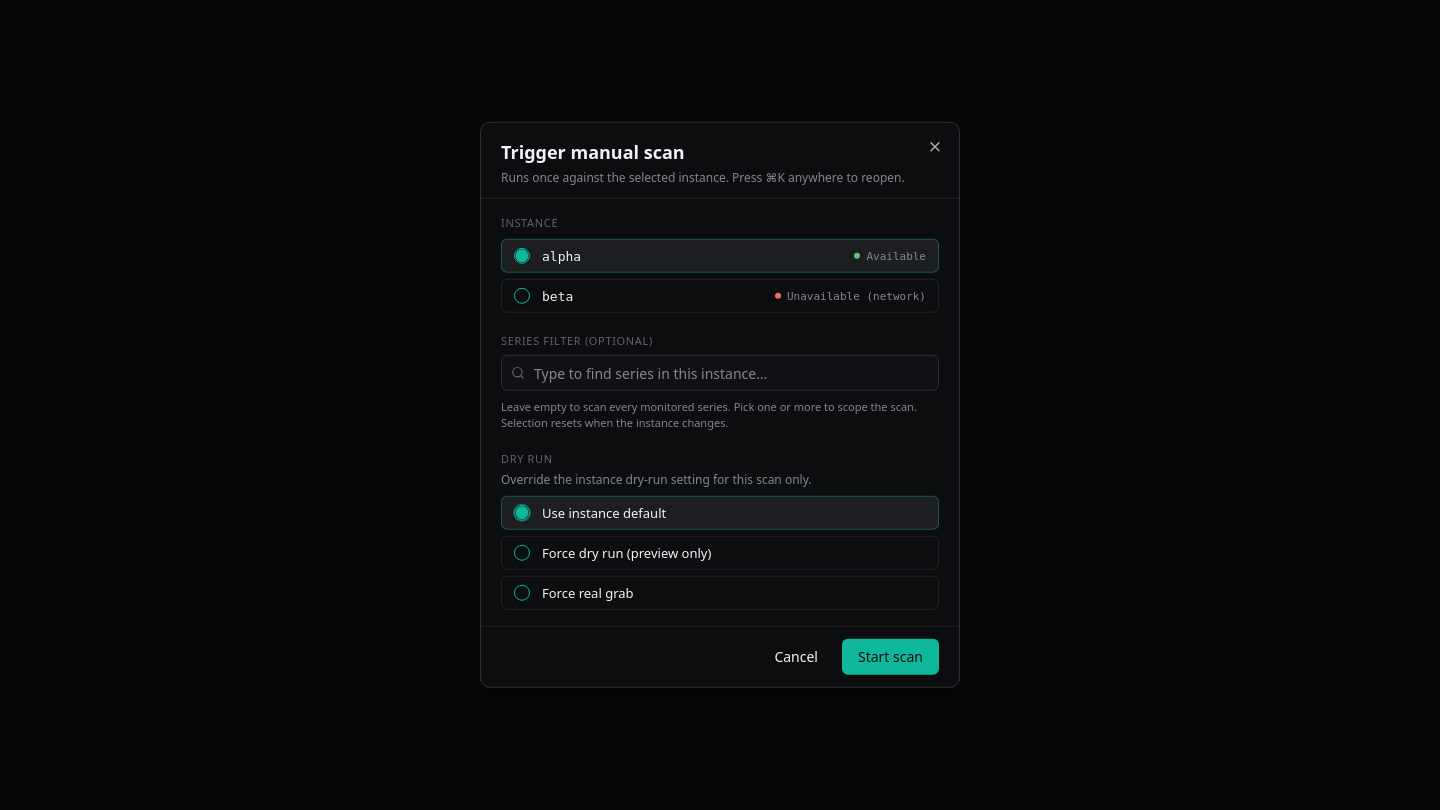
Test case: <NewScanModal /> › shows the friendly-labeled warning when an unavailable instance is selected, none for Available
This screenshot has width=1440, height=810.
Check: the text "alpha" is shown, box [542,249,581,264]
Check: the text "scan may produce errors" is not shown
Click the radio button named "beta" next to "beta".
click(522, 296)  # box [514,288,530,304]
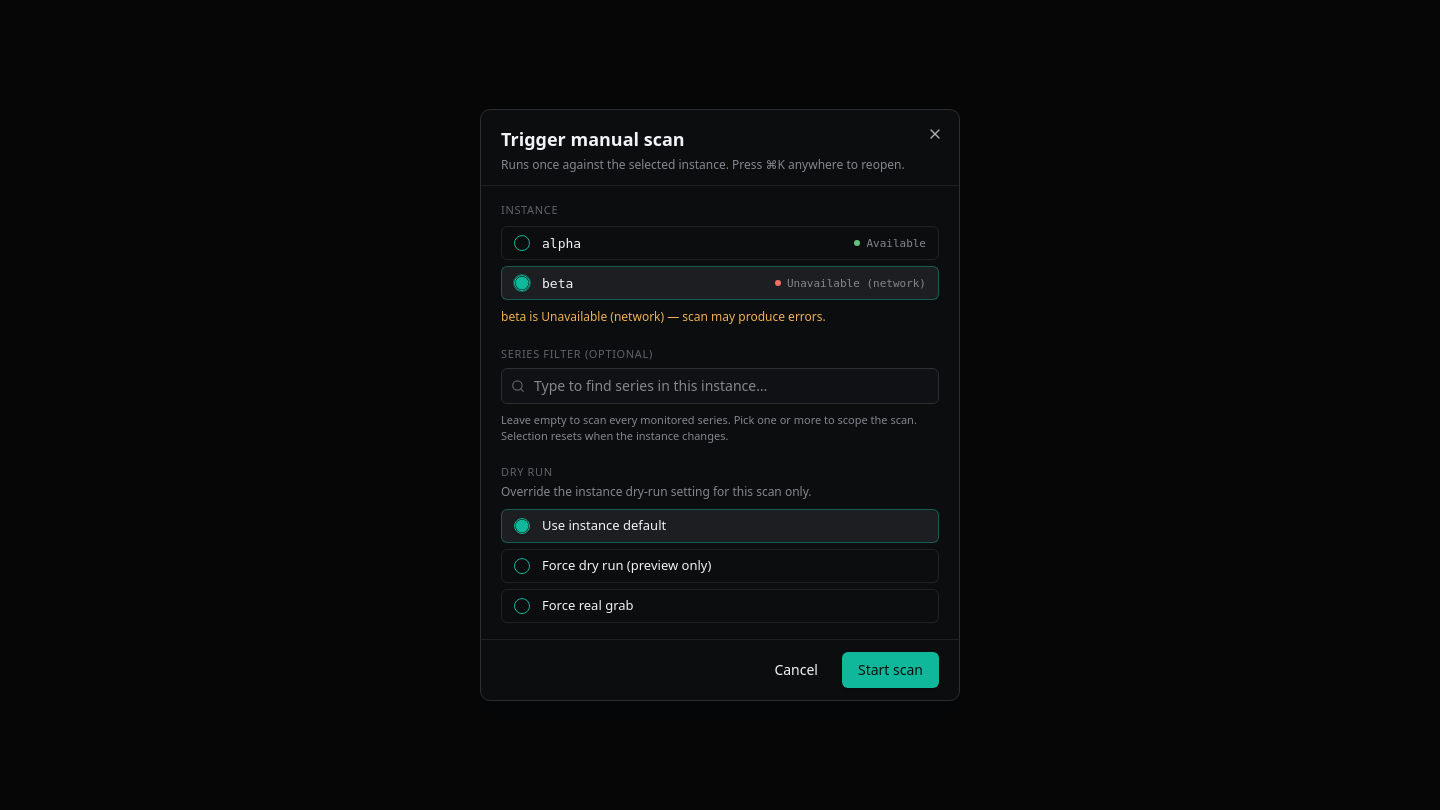
Check: the text "beta is Unavailable (network) — scan may produce errors." is shown, box [501,308,826,325]
